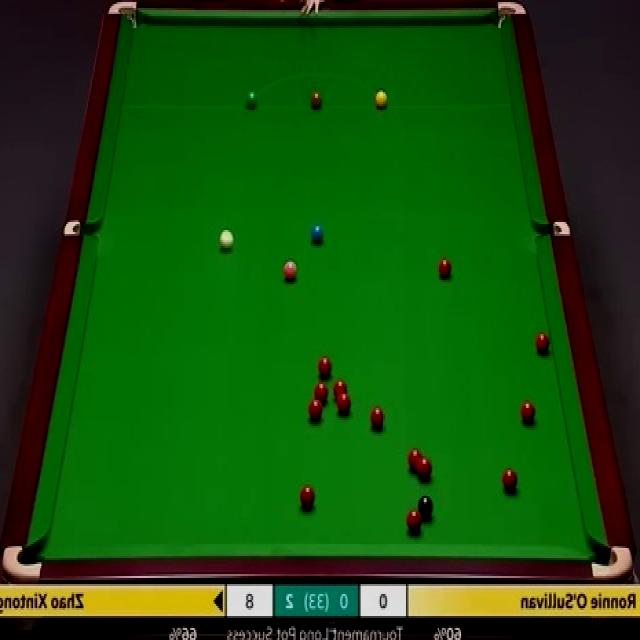black-ball: (416, 492, 434, 524)
blue-ball: (308, 222, 324, 247)
brown-ball: (309, 91, 323, 111)
green-ball: (246, 90, 260, 112)
pink-ball: (280, 256, 299, 284)
red-ball: (404, 510, 423, 537), (520, 398, 537, 426), (415, 457, 434, 482), (316, 354, 334, 380), (534, 330, 552, 356), (502, 467, 518, 493), (346, 396, 362, 420), (300, 485, 315, 510), (323, 389, 339, 412), (437, 256, 452, 280), (332, 379, 349, 400), (406, 448, 422, 470), (308, 398, 323, 420), (310, 384, 326, 402)
white-ball: (220, 229, 234, 254)
yellow-ball: (374, 90, 388, 110)
